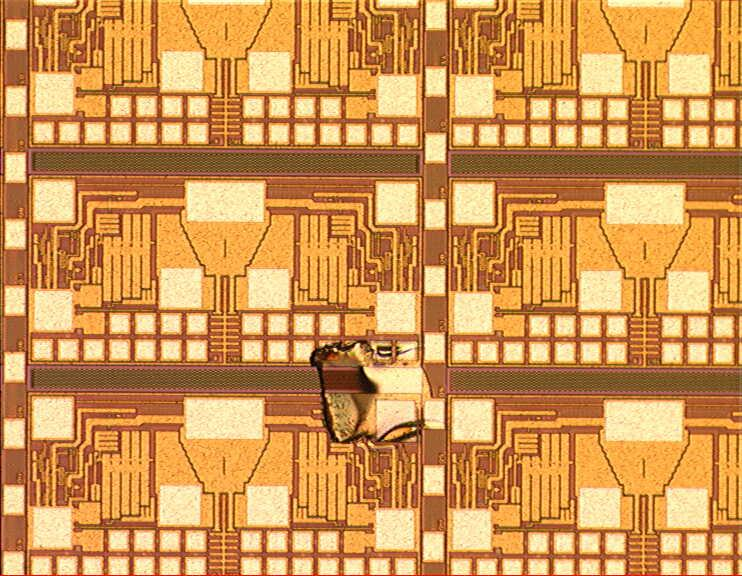BLOCK ETCH: (308, 338, 441, 446)
